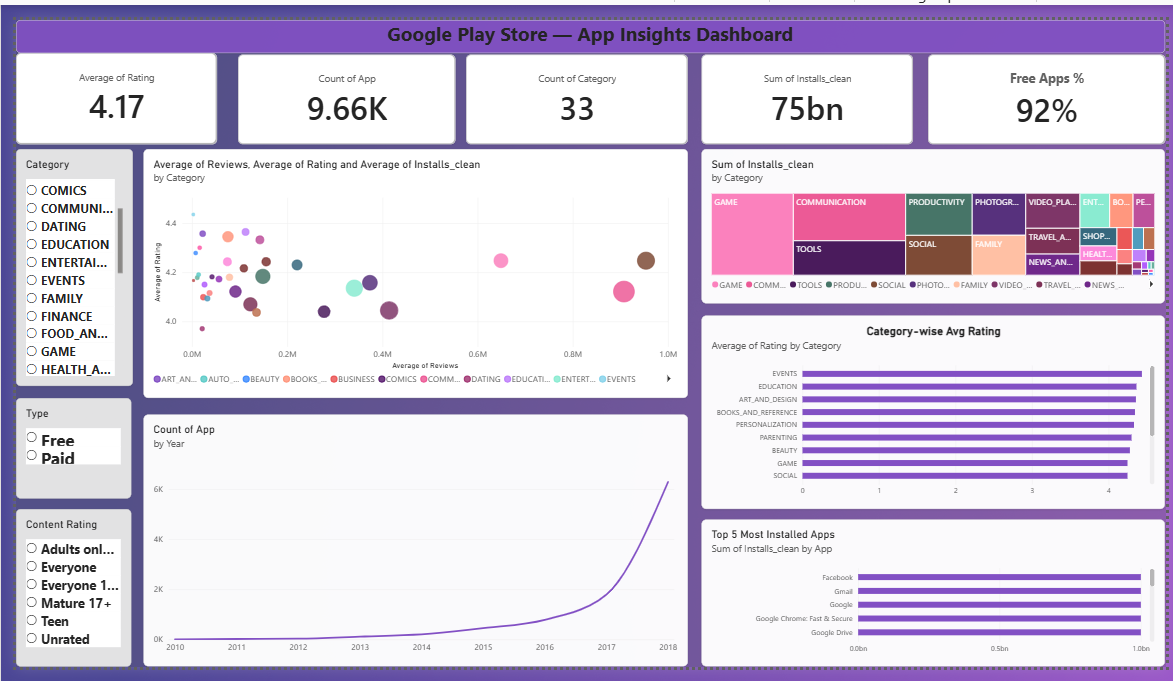

This screenshot's page, from the dashboard's own definition file:
{"tool":"powerbi","page":{"name":" App Insights Dashboard","canvas":[1920,1080],"ordinal":0},"visuals":[{"type":"textbox","box":[0,0,1919.2,55.1],"z":0},{"type":"cardVisual","fields":{"Data":["Avg(googleplaystore_cleaned.Rating)"]},"box":[0,55.1,335.7,152.8],"z":1000},{"type":"cardVisual","fields":{"Data":["CountNonNull(googleplaystore_cleaned.App)"]},"box":[370.3,58.1,363,150.1],"z":2000},{"type":"cardVisual","fields":{"Data":["Count(googleplaystore_cleaned.Category)"]},"box":[751.6,57.6,370.8,150.3],"z":3000},{"type":"cardVisual","fields":{"Data":["Sum(googleplaystore_cleaned.Installs_clean)"]},"box":[1145,57.6,353.3,150.3],"z":4000},{"type":"cardVisual","fields":{"Data":["googleplaystore_cleaned.Free Apps %"]},"box":[1522.3,58.1,396.9,150.1],"z":5000},{"type":"listSlicer","fields":{"Values":["googleplaystore_cleaned.Category"]},"box":[0,215.5,195.4,395.9],"z":6000},{"type":"listSlicer","fields":{"Values":["googleplaystore_cleaned.Type"]},"box":[0,631.4,192.9,167.9],"z":6001},{"type":"listSlicer","fields":{"Values":["googleplaystore_cleaned.Content Rating"]},"box":[0,816.8,192.9,263.1],"z":6002},{"type":"clusteredBarChart","title":"Category-wise Avg Rating","fields":{"Category":["googleplaystore_cleaned.Category"],"Y":["Avg(googleplaystore_cleaned.Rating)"]},"box":[1145,493.6,774.2,323.2],"z":6003},{"type":"treemap","fields":{"Group":["googleplaystore_cleaned.Category"],"Values":["Sum(googleplaystore_cleaned.Installs_clean)"]},"box":[1145,215.5,774.2,258.1],"z":6004},{"type":"scatterChart","fields":{"X":["Avg(googleplaystore_cleaned.Reviews)"],"Y":["Avg(googleplaystore_cleaned.Rating)"],"Size":["Avg(googleplaystore_cleaned.Installs_clean)"],"Series":["googleplaystore_cleaned.Category"]},"box":[213,215.5,909.5,415.9],"z":6005},{"type":"lineChart","fields":{"Category":["googleplaystore_cleaned.Last Updated.Variation.Date Hierarchy.Year","googleplaystore_cleaned.Last Updated.Variation.Date Hierarchy.Quarter","googleplaystore_cleaned.Last Updated.Variation.Date Hierarchy.Month"],"Y":["CountNonNull(googleplaystore_cleaned.App)"]},"box":[213,658.9,909.5,420.9],"z":6006},{"type":"clusteredBarChart","title":"Top 5 Most Installed Apps","fields":{"Category":["googleplaystore_cleaned.App"],"Y":["Sum(googleplaystore_cleaned.Installs_clean)"]},"box":[1145,834.3,774.2,245.5],"z":6007}]}

Visuals, with their boxes in screenshot pixels (x1, y1, x2, y2):
textbox: <box>9,15,1165,48</box>
cardVisual - Avg(googleplaystore_cleaned.Rating): <box>9,48,211,141</box>
cardVisual - CountNonNull(googleplaystore_cleaned.App): <box>232,50,451,141</box>
cardVisual - Count(googleplaystore_cleaned.Category): <box>462,50,685,141</box>
cardVisual - Sum(googleplaystore_cleaned.Installs_clean): <box>699,50,912,141</box>
cardVisual - googleplaystore_cleaned.Free Apps %: <box>926,50,1165,141</box>
listSlicer - googleplaystore_cleaned.Category: <box>9,145,127,384</box>
listSlicer - googleplaystore_cleaned.Type: <box>9,396,125,497</box>
listSlicer - googleplaystore_cleaned.Content Rating: <box>9,507,125,666</box>
"Category-wise Avg Rating" clusteredBarChart: <box>699,313,1165,507</box>
treemap - googleplaystore_cleaned.Category x Sum(googleplaystore_cleaned.Installs_clean): <box>699,145,1165,301</box>
scatterChart - Avg(googleplaystore_cleaned.Reviews) x Avg(googleplaystore_cleaned.Rating): <box>137,145,685,396</box>
lineChart - googleplaystore_cleaned.Last Updated.Variation.Date Hierarchy.Year x googleplaystore_cleaned.Last Updated.Variation.Date Hierarchy.Quarter: <box>137,412,685,666</box>
"Top 5 Most Installed Apps" clusteredBarChart: <box>699,518,1165,666</box>
